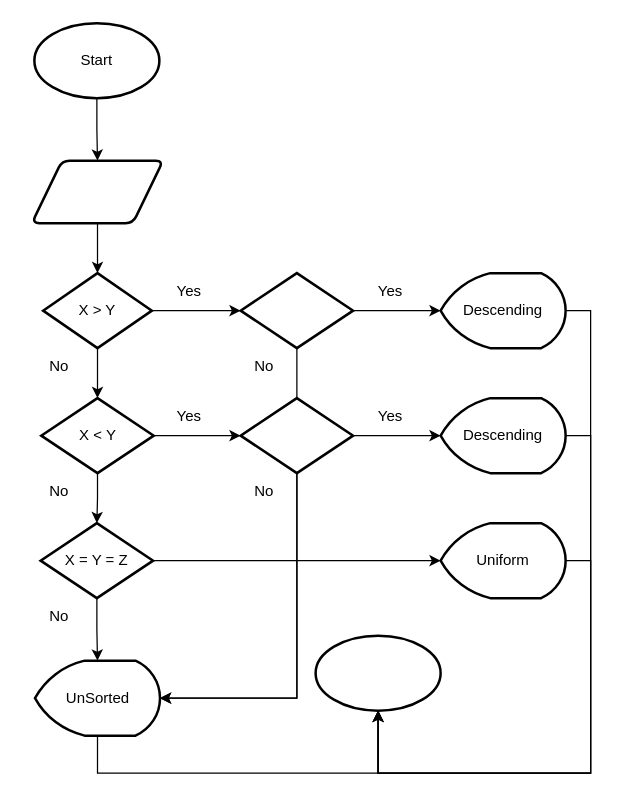
This 623x805 diagram has some shape labels left out. Each missing label, with the box of its shape:
Get X,Y,Z: (30, 159, 164, 224)
Stop: (314, 634, 441, 711)
Y < Z: (239, 396, 354, 474)
Y > Z: (239, 271, 354, 349)
